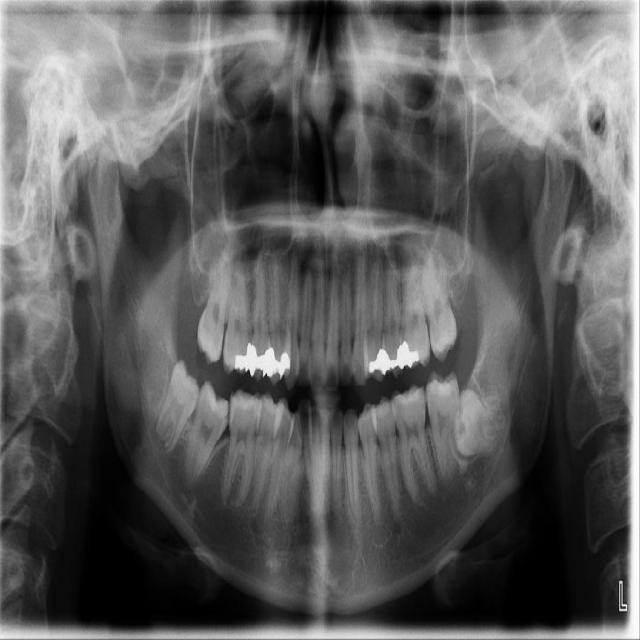Filling: (257, 346, 290, 380), (234, 343, 257, 376), (397, 340, 422, 370), (369, 347, 388, 375), (388, 358, 401, 369)
impacted tooth: (158, 364, 201, 451), (456, 389, 512, 455)
